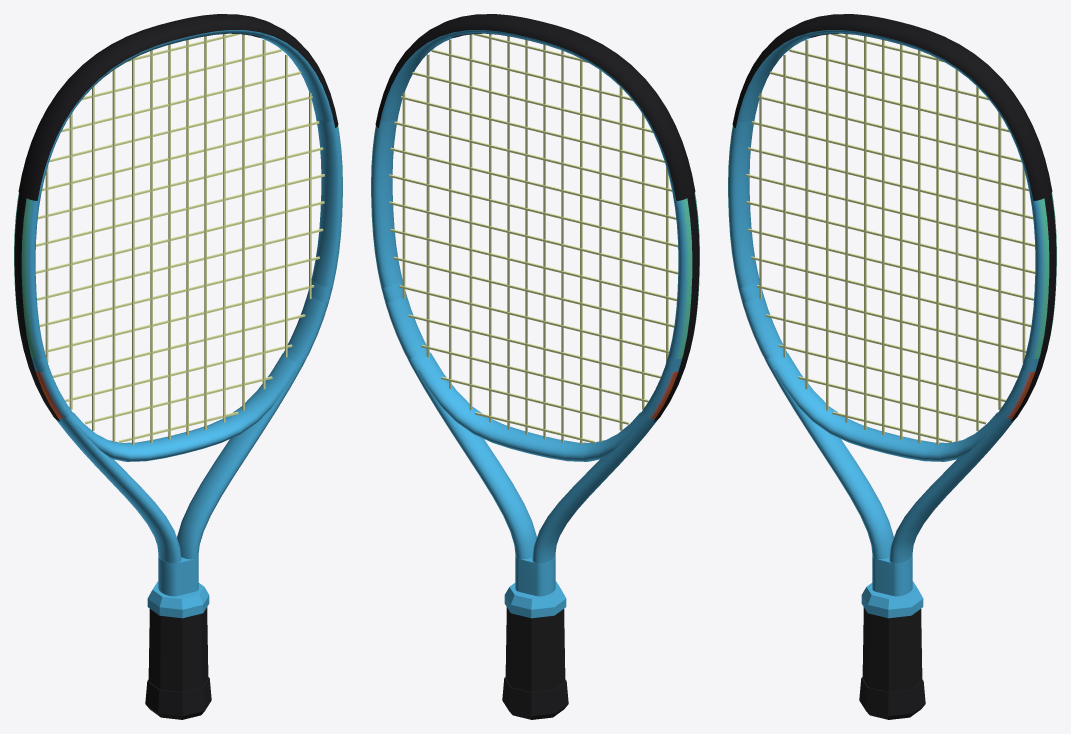
Rendered from yonex-junior-19.glb.
The picture shows the model from 3 angles, left to right: view 1: azimuth 30°, elevation 25°; view 2: azimuth 150°, elevation 25°; view 3: azimuth 330°, elevation 25°; orthographic projection.
Parts seen in each view (by area): view 1: frame, strings_mains, strings_crosses, bumper, grip, butt_cap, grommets, collar; view 2: frame, strings_mains, strings_crosses, bumper, grip, butt_cap, grommets, collar; view 3: frame, strings_mains, strings_crosses, bumper, grip, butt_cap, grommets, collar.
Part boxes in pixels (left/top/right/bottom): frame: left=14, top=30, right=342, bottom=596; strings_mains: left=45, top=34, right=311, bottom=444; strings_crosses: left=35, top=34, right=324, bottom=443; bumper: left=18, top=14, right=338, bottom=200; grip: left=148, top=607, right=208, bottom=692; butt_cap: left=145, top=677, right=211, bottom=719; grommets: left=14, top=193, right=60, bottom=421; collar: left=147, top=581, right=209, bottom=618; frame: left=371, top=30, right=699, bottom=596; strings_mains: left=402, top=34, right=668, bottom=444; strings_crosses: left=388, top=34, right=678, bottom=443; bumper: left=375, top=14, right=695, bottom=200; grip: left=505, top=607, right=565, bottom=692; butt_cap: left=502, top=677, right=568, bottom=719; grommets: left=653, top=193, right=699, bottom=421; collar: left=504, top=581, right=566, bottom=618; frame: left=728, top=30, right=1056, bottom=596; strings_mains: left=759, top=34, right=1025, bottom=444; strings_crosses: left=746, top=34, right=1035, bottom=443; bumper: left=732, top=14, right=1052, bottom=200; grip: left=862, top=607, right=922, bottom=692; butt_cap: left=859, top=677, right=925, bottom=719; grommets: left=1010, top=193, right=1056, bottom=421; collar: left=861, top=581, right=923, bottom=618.
Size of the model in its own units: 0.2382 by 0.4829 by 0.0396.
